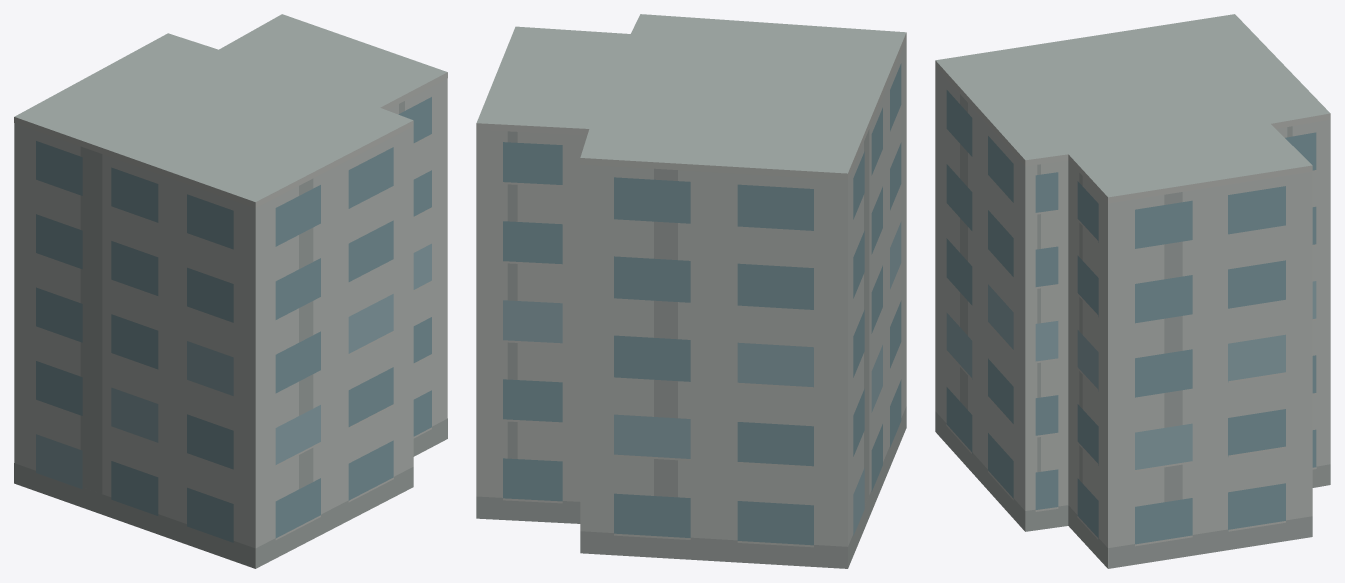
The model's file is survey-upis-32863674.glb.
3 renders of one model, left to right at view 1: azimuth 30°, elevation 25°; view 2: azimuth 150°, elevation 25°; view 3: azimuth 270°, elevation 25°, orthographic. The views are drawn at different scales.
Parts seen in each view (by area): view 1: survey-upis-32863674.tmp; view 2: survey-upis-32863674.tmp; view 3: survey-upis-32863674.tmp.
Boxes of the visible parts, <box> form: survey-upis-32863674.tmp: <box>14,14,447,568</box>; survey-upis-32863674.tmp: <box>476,14,906,568</box>; survey-upis-32863674.tmp: <box>935,14,1330,568</box>.
Bounding box in the file's own units: 15.57 × 14.7 × 14.18.
